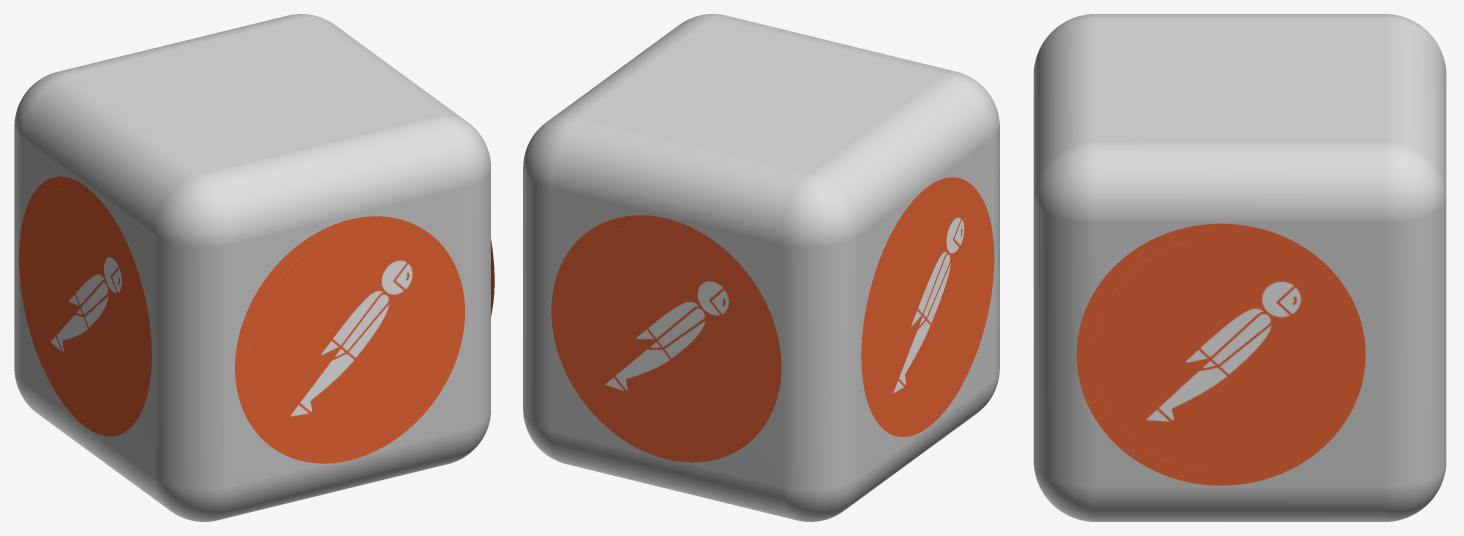
File: postman.glb
3 renders of one model, left to right at view 1: azimuth 30°, elevation 25°; view 2: azimuth 150°, elevation 25°; view 3: azimuth 270°, elevation 25°, orthographic. The views are drawn at different scales.
Visible parts, largest first — view 1: Cube.011, Plane.048, Plane.045; view 2: Cube.011, Plane.047, Plane.045; view 3: Cube.011, Plane.046.
Boxes of the visible parts, box(x1,y1,x2,y2) form: Cube.011: box(14, 14, 490, 521); Plane.048: box(235, 216, 464, 463); Plane.045: box(19, 176, 151, 436); Cube.011: box(523, 14, 999, 521); Plane.047: box(551, 215, 781, 462); Plane.045: box(861, 177, 994, 436); Cube.011: box(1033, 14, 1446, 521); Plane.046: box(1076, 223, 1365, 485).
Size of the model in its own units: 2.03 by 2 by 2.04.
5 materials, 4 textured.
